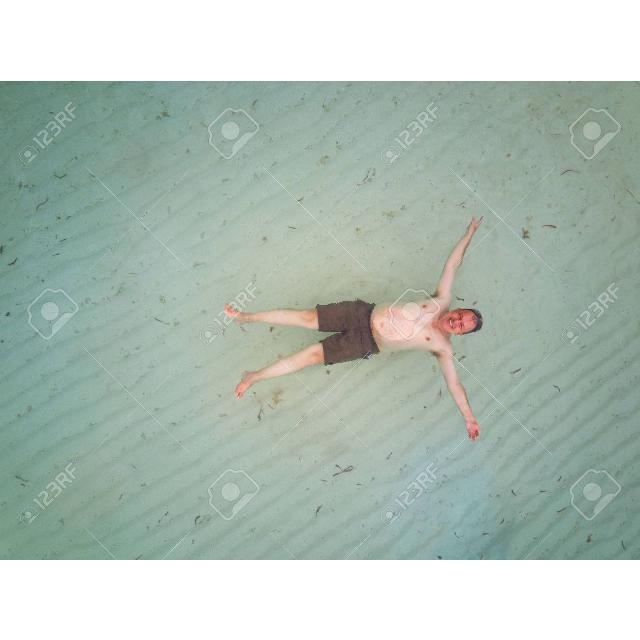human: (226, 215, 485, 443)
